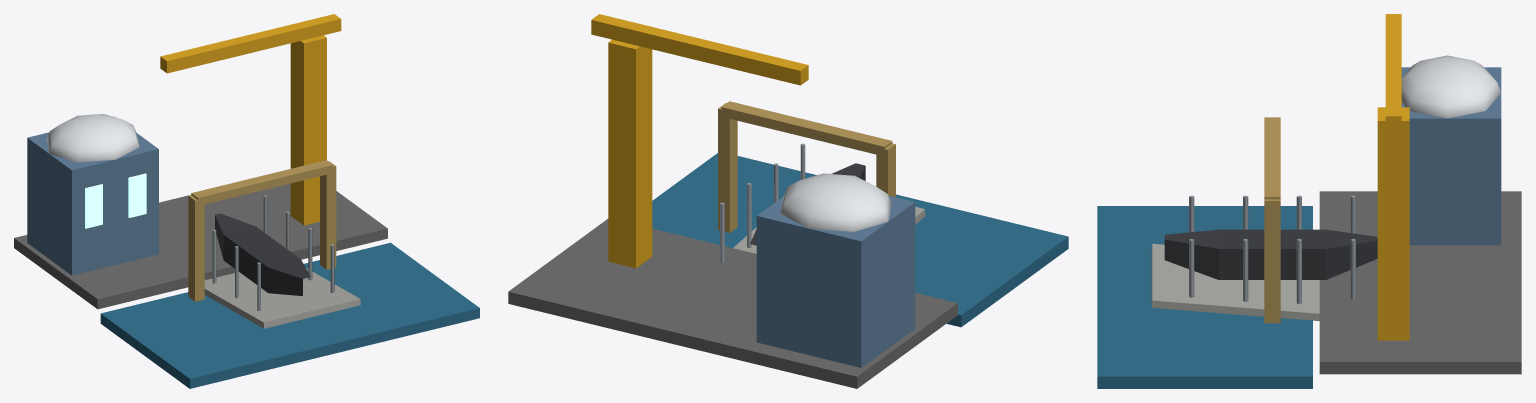
Rendered from bld_special_shipyard_a10_lod1.glb.
The picture shows the model from 3 angles, left to right: view 1: azimuth 30°, elevation 25°; view 2: azimuth 150°, elevation 25°; view 3: azimuth 270°, elevation 25°; orthographic projection. The views are drawn at different scales.
Parts seen in each view (by area): view 1: body, crane; view 2: body, crane; view 3: body, crane.
Boxes of the visible parts, box(x1,y1,x2,y2) form: body: box(14, 114, 479, 388); crane: box(160, 14, 341, 225); body: box(508, 101, 1068, 388); crane: box(591, 14, 808, 268); body: box(1097, 55, 1521, 388); crane: box(1377, 14, 1409, 340).
Bounding box in the file's own units: 15 × 10.7 × 15.75.
